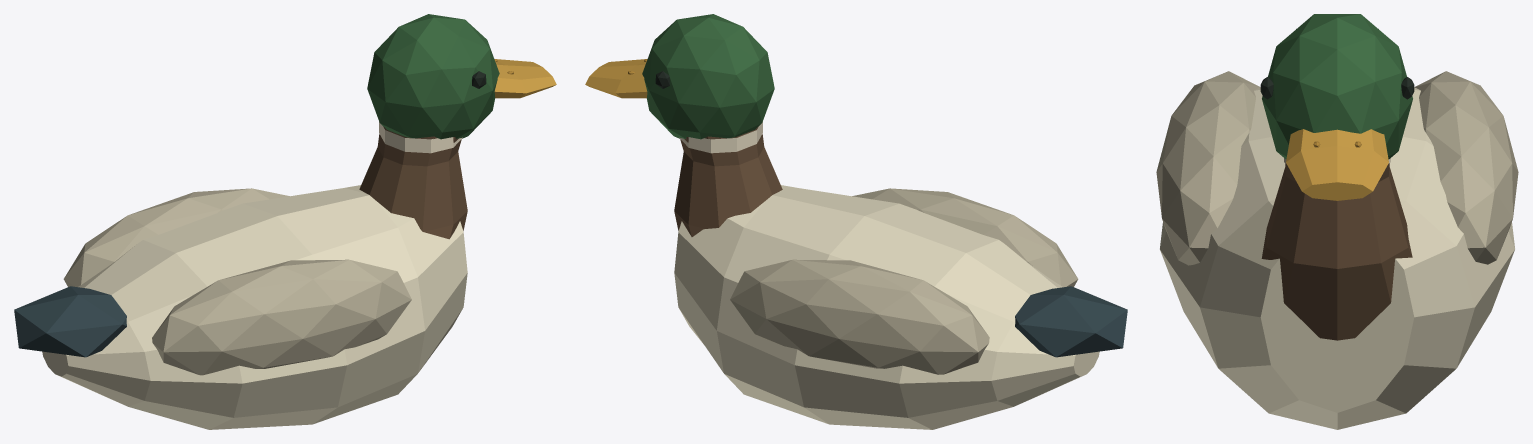
The model's file is lwf_duck_drake_v1.glb.
3 views of the same model, side by side, from view 1: azimuth 30°, elevation 25°; view 2: azimuth 150°, elevation 25°; view 3: azimuth 270°, elevation 25° (orthographic). The views are drawn at different scales.
Parts seen in each view (by area): view 1: DuckDrake; view 2: DuckDrake; view 3: DuckDrake.
Boxes of the visible parts, box(x1,y1,x2,y2) form: DuckDrake: box(14, 14, 556, 429); DuckDrake: box(585, 14, 1127, 429); DuckDrake: box(1156, 14, 1518, 429).
Bounding box in the file's own units: 0.671 × 0.436 × 0.3158.
1 material, 1 textured.
